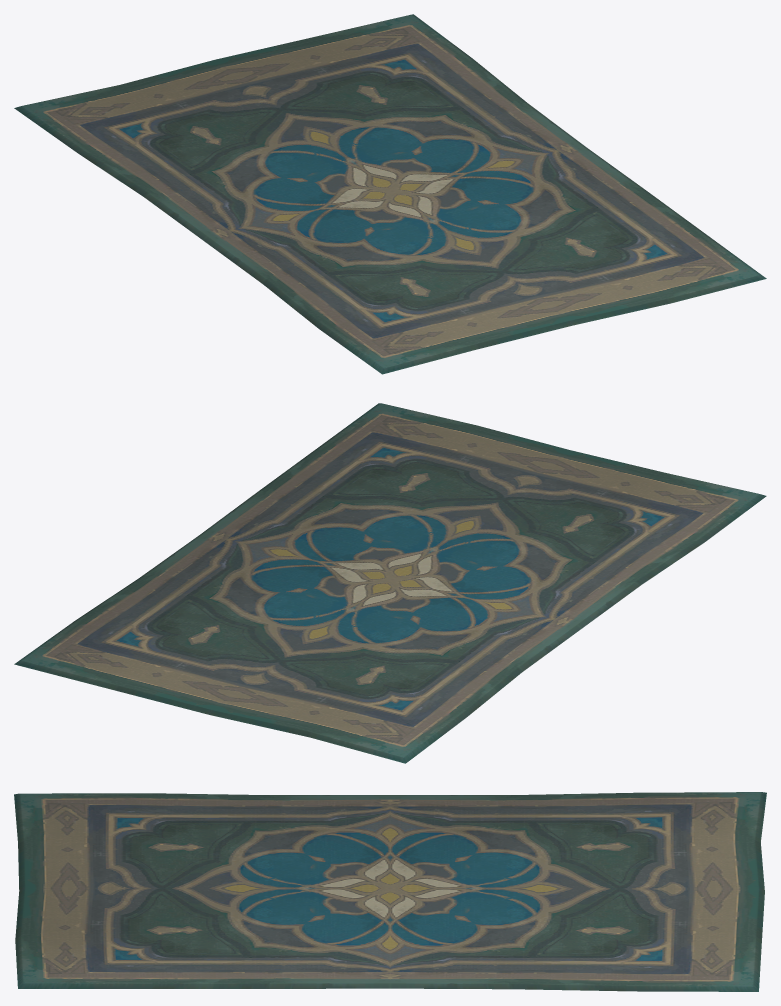
Rendered from Homeworld_Interior_Xm_Carpet_Prop_Wharf_01_Vo.fbx.
3 views of the same model, one above another, from view 1: azimuth 30°, elevation 25°; view 2: azimuth 150°, elevation 25°; view 3: azimuth 270°, elevation 25° (orthographic). The views are drawn at different scales.
Visible parts, largest first — view 1: Homeworld_Interior_Xm_Carpet_Prop_Wharf_01_Vo; view 2: Homeworld_Interior_Xm_Carpet_Prop_Wharf_01_Vo; view 3: Homeworld_Interior_Xm_Carpet_Prop_Wharf_01_Vo.
Boxes of the visible parts, x1,y1,x2,y2 form: Homeworld_Interior_Xm_Carpet_Prop_Wharf_01_Vo: (14, 14, 766, 374); Homeworld_Interior_Xm_Carpet_Prop_Wharf_01_Vo: (14, 403, 766, 763); Homeworld_Interior_Xm_Carpet_Prop_Wharf_01_Vo: (14, 792, 766, 991).
Bounding box in the file's own units: 2.29 × 0.0154 × 3.66.
